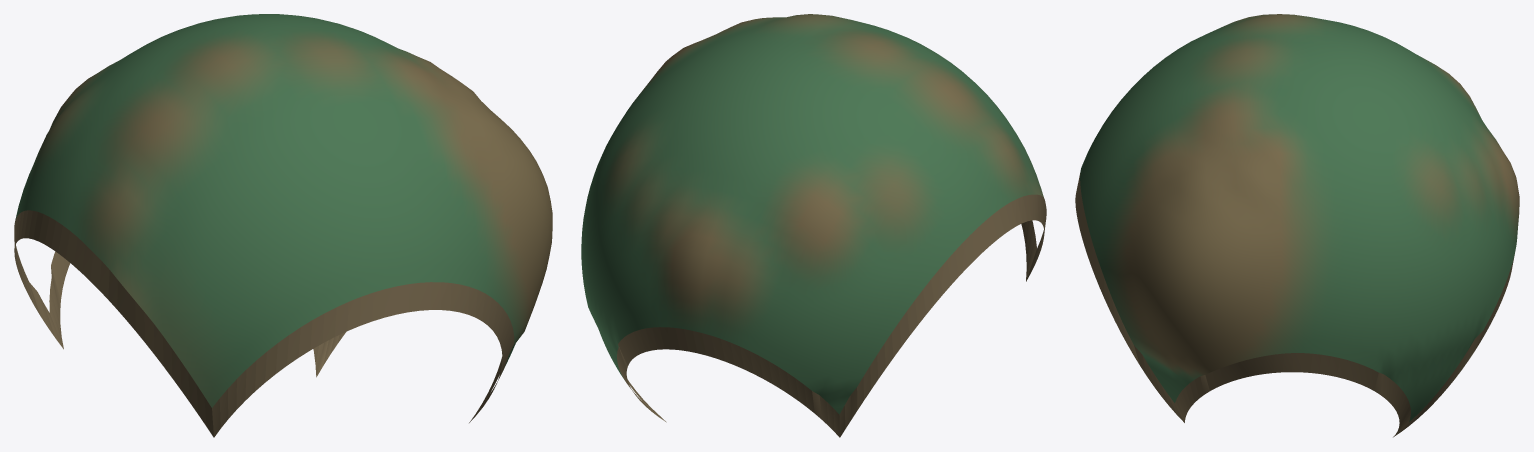
Rendered from hills.glb.
3 views of the same model, side by side, from view 1: azimuth 30°, elevation 25°; view 2: azimuth 150°, elevation 25°; view 3: azimuth 270°, elevation 25° (orthographic). The views are drawn at different scales.
Parts seen in each view (by area): view 1: hills, hills-closed-skirt; view 2: hills, hills-closed-skirt; view 3: hills, hills-closed-skirt.
Boxes of the visible parts, x1,y1,x2,y2 form: hills: (15,14,552,407); hills-closed-skirt: (14,210,514,437); hills: (581,14,1044,414); hills-closed-skirt: (617,194,1046,437); hills: (1080,14,1519,421); hills-closed-skirt: (1075,173,1514,437).
Size of the model in its own units: 80.16 by 71 by 80.24.
